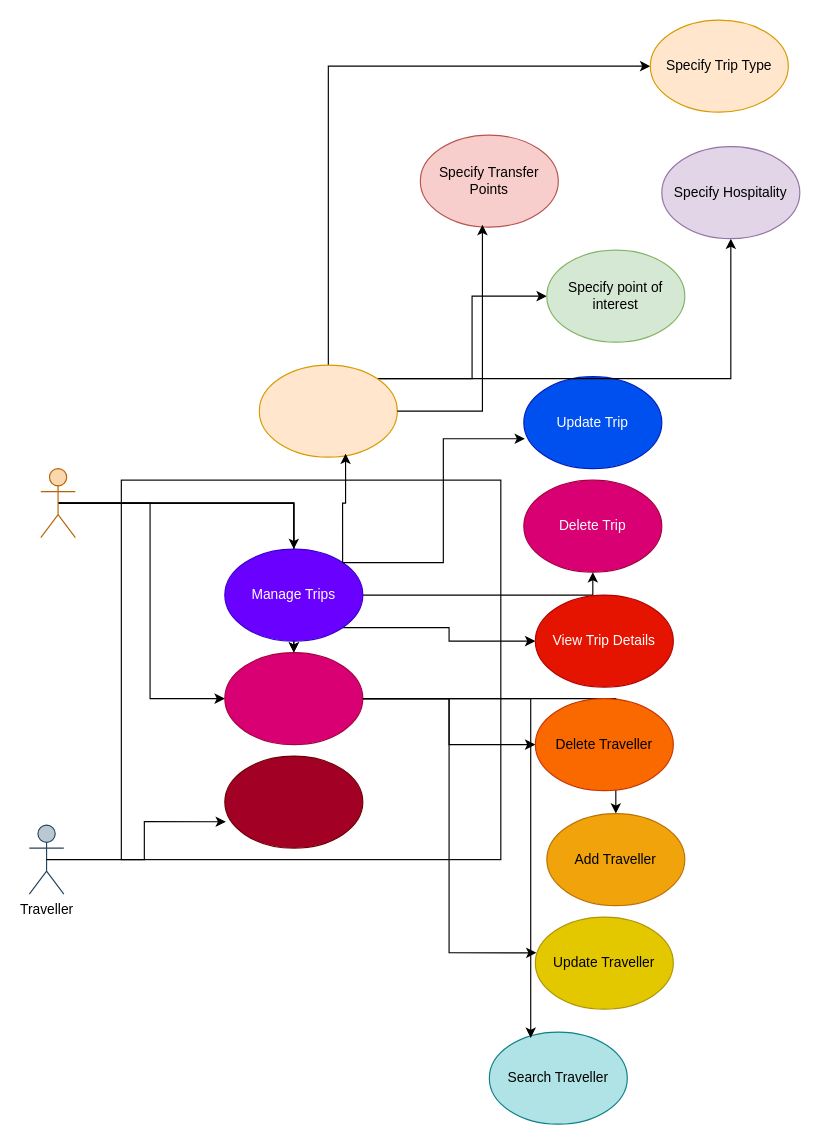
Some shapes in this 820 by 1144 pixel diagram are drawn without their labels. The shapes that lost their labels are listed below. From the top down, each one's centre as x and y in pixels, then its label:
At (327,410): "Add Trip".
At (57,502): "Admin".
At (293,698): "Manage Travellers".
At (293,801): "Book Trips".
